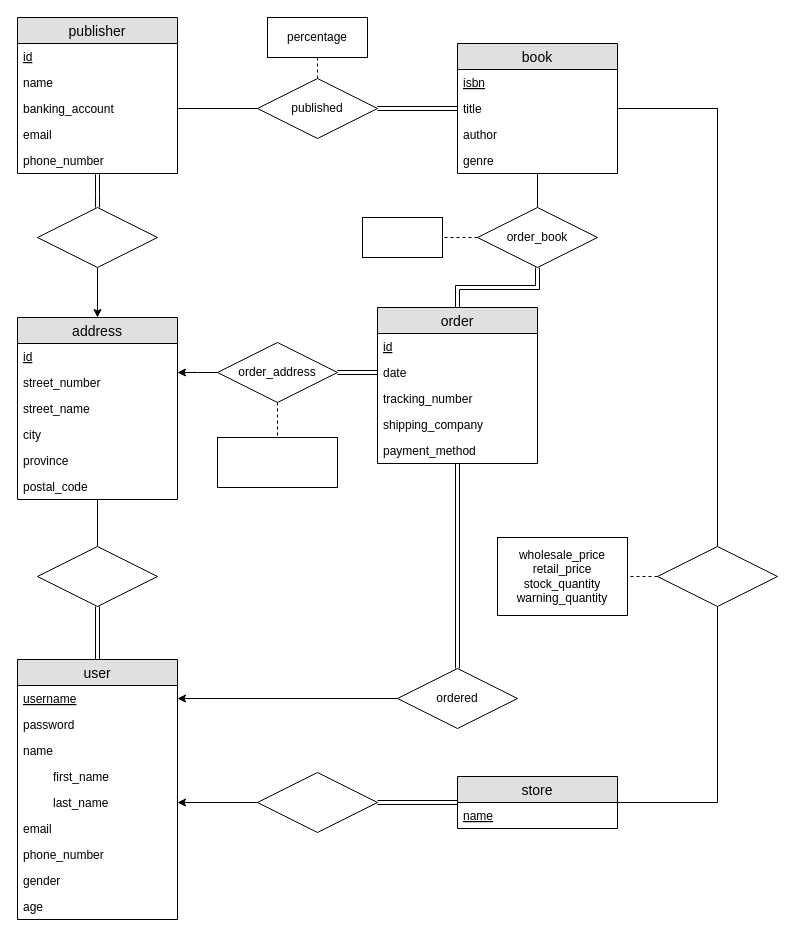
Image size: 795x940. Some labels were removed from this diagram. The centre of each missing label's shape, as x and y in pixels:
billing_address shipping_address: the point at 277,462
owns: the point at 317,802
publisher_address: the point at 97,237
quantity: the point at 402,237
store_book: the point at 717,576
user_address: the point at 97,576
